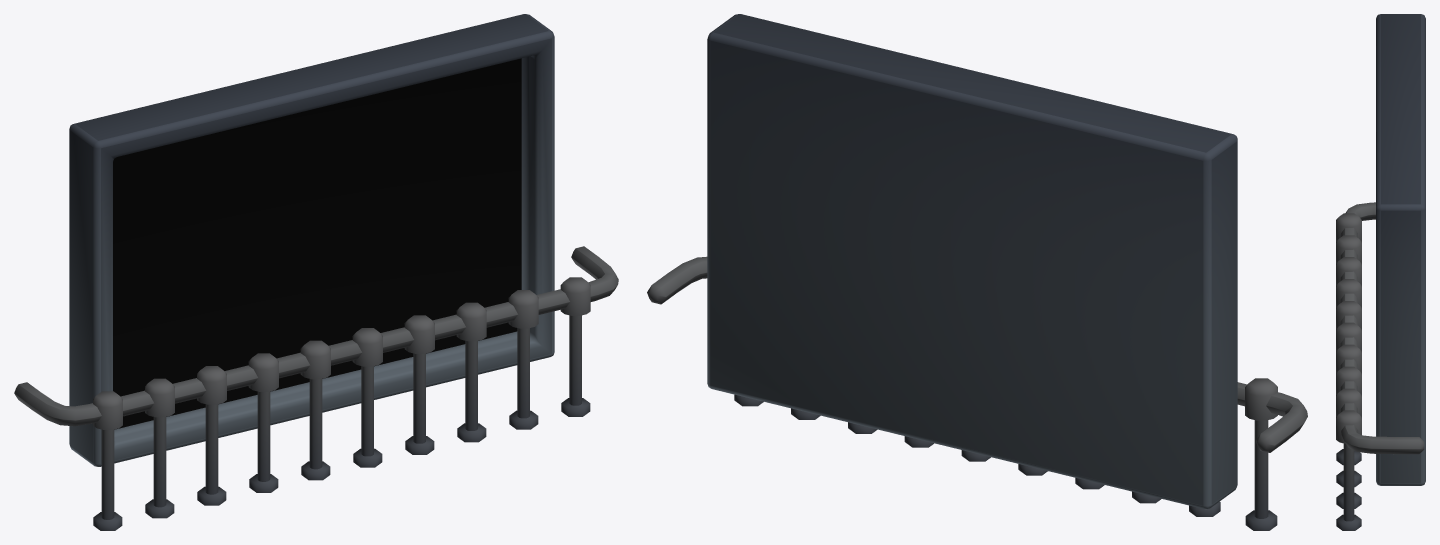
Rendered from monitor.fbx.
3 renders of one model, left to right at view 1: azimuth 30°, elevation 25°; view 2: azimuth 150°, elevation 25°; view 3: azimuth 270°, elevation 25°, orthographic. The views are drawn at different scales.
Parts seen in each view (by area): view 1: monitor; view 2: monitor; view 3: monitor.
Part boxes in pixels (bbox=[...]): monitor: bbox=[14, 14, 618, 530]; monitor: bbox=[647, 14, 1307, 530]; monitor: bbox=[1336, 14, 1425, 530].
Size of the model in its own units: 1149 by 706 by 181.
